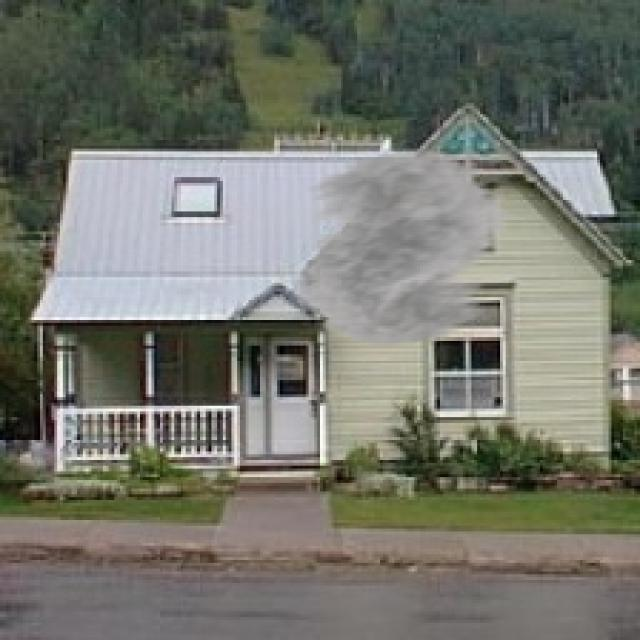Smoke: (263, 148, 532, 348)
